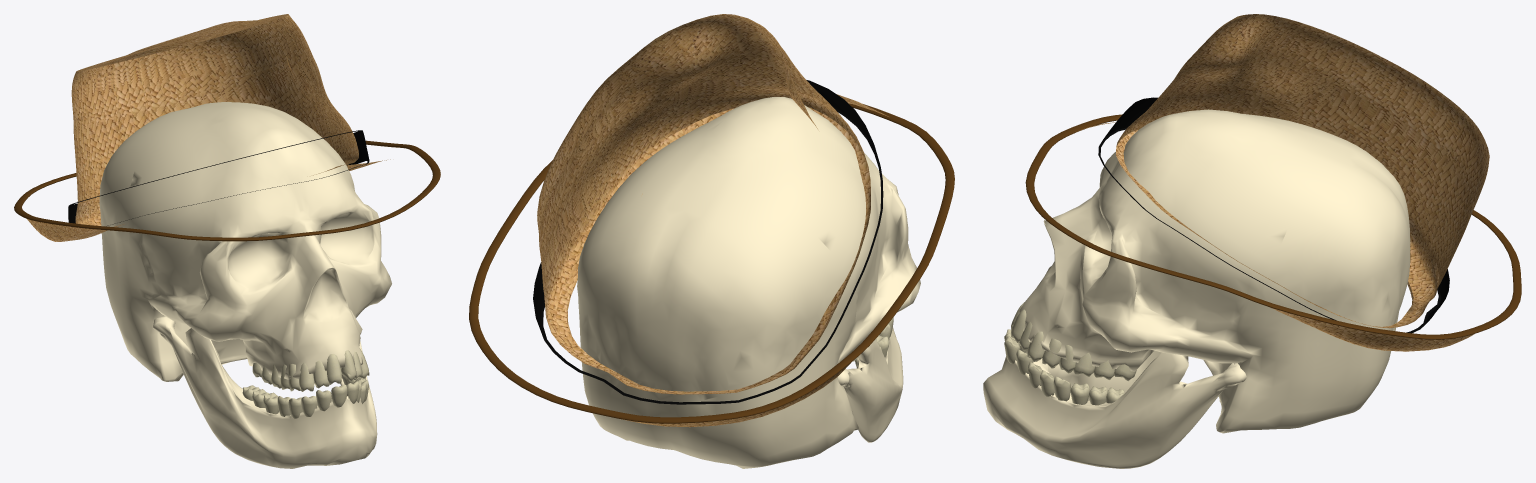
File: skull.gltf
3 renders of one model, left to right at view 1: azimuth 30°, elevation 25°; view 2: azimuth 150°, elevation 25°; view 3: azimuth 270°, elevation 25°, orthographic. The views are drawn at different scales.
Visible parts, largest first — view 1: Skull, chapeau0, bord, badeau; view 2: Skull, chapeau0, bord, badeau; view 3: Skull, chapeau0, bord, badeau.
Part boxes in pixels (x1=…): Skull: x1=99, y1=102, x2=391, y2=468; chapeau0: x1=27, y1=14, x2=390, y2=241; bord: x1=14, y1=140, x2=440, y2=241; badeau: x1=68, y1=130, x2=369, y2=226; Skull: x1=577, y1=97, x2=920, y2=468; chapeau0: x1=537, y1=14, x2=888, y2=427; bord: x1=469, y1=103, x2=954, y2=423; badeau: x1=533, y1=80, x2=883, y2=404; Skull: x1=983, y1=109, x2=1410, y2=468; chapeau0: x1=1073, y1=14, x2=1489, y2=351; bord: x1=1025, y1=114, x2=1521, y2=339; badeau: x1=1098, y1=97, x2=1449, y2=333.
Bounding box in the file's own units: 1.41 × 1.53 × 1.8.
Materials: 6 (2 with a texture image).
